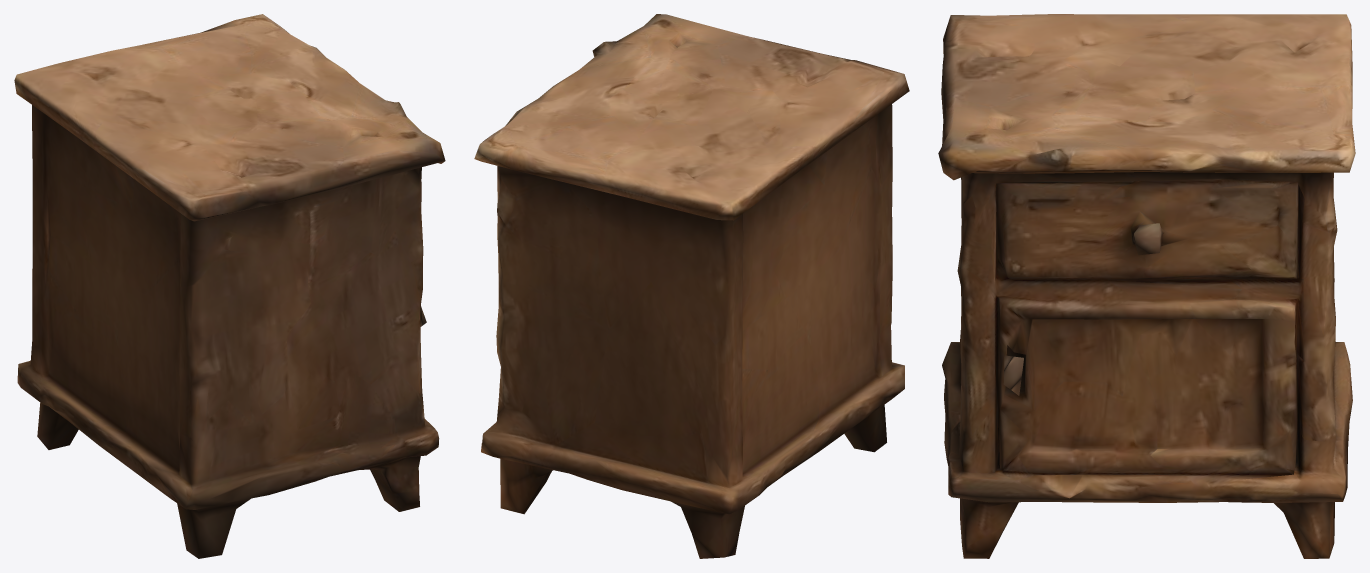
File: e_nightstand.glb
3 views of the same model, side by side, from view 1: azimuth 30°, elevation 25°; view 2: azimuth 150°, elevation 25°; view 3: azimuth 270°, elevation 25° (orthographic). The views are drawn at different scales.
Parts seen in each view (by area): view 1: tripo_node_a3cee865-d5d3-43ab-b9f3-7a02d6e225dc; view 2: tripo_node_a3cee865-d5d3-43ab-b9f3-7a02d6e225dc; view 3: tripo_node_a3cee865-d5d3-43ab-b9f3-7a02d6e225dc.
Part boxes in pixels (x1,y1,x2,y2): tripo_node_a3cee865-d5d3-43ab-b9f3-7a02d6e225dc: (14,14,445,558); tripo_node_a3cee865-d5d3-43ab-b9f3-7a02d6e225dc: (474,14,909,558); tripo_node_a3cee865-d5d3-43ab-b9f3-7a02d6e225dc: (938,14,1355,558).
Bounding box in the file's own units: 0.7511 × 1 × 0.9007.
Materials: 1 (1 with a texture image).
